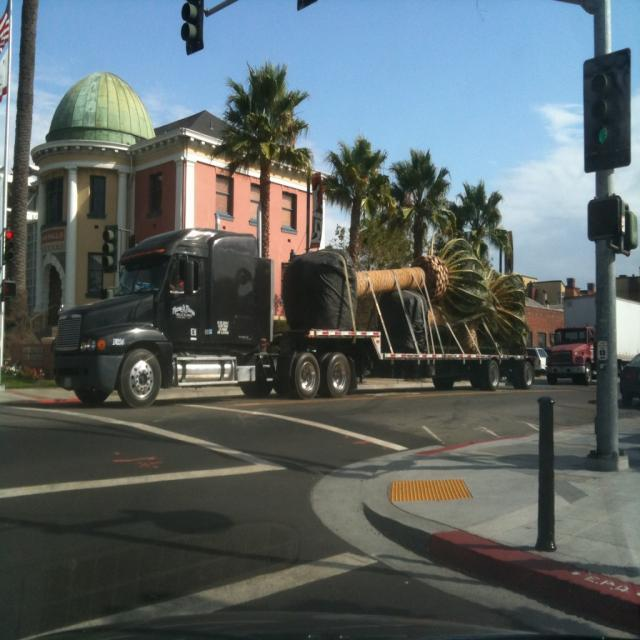traffic light: (582, 58, 632, 165)
